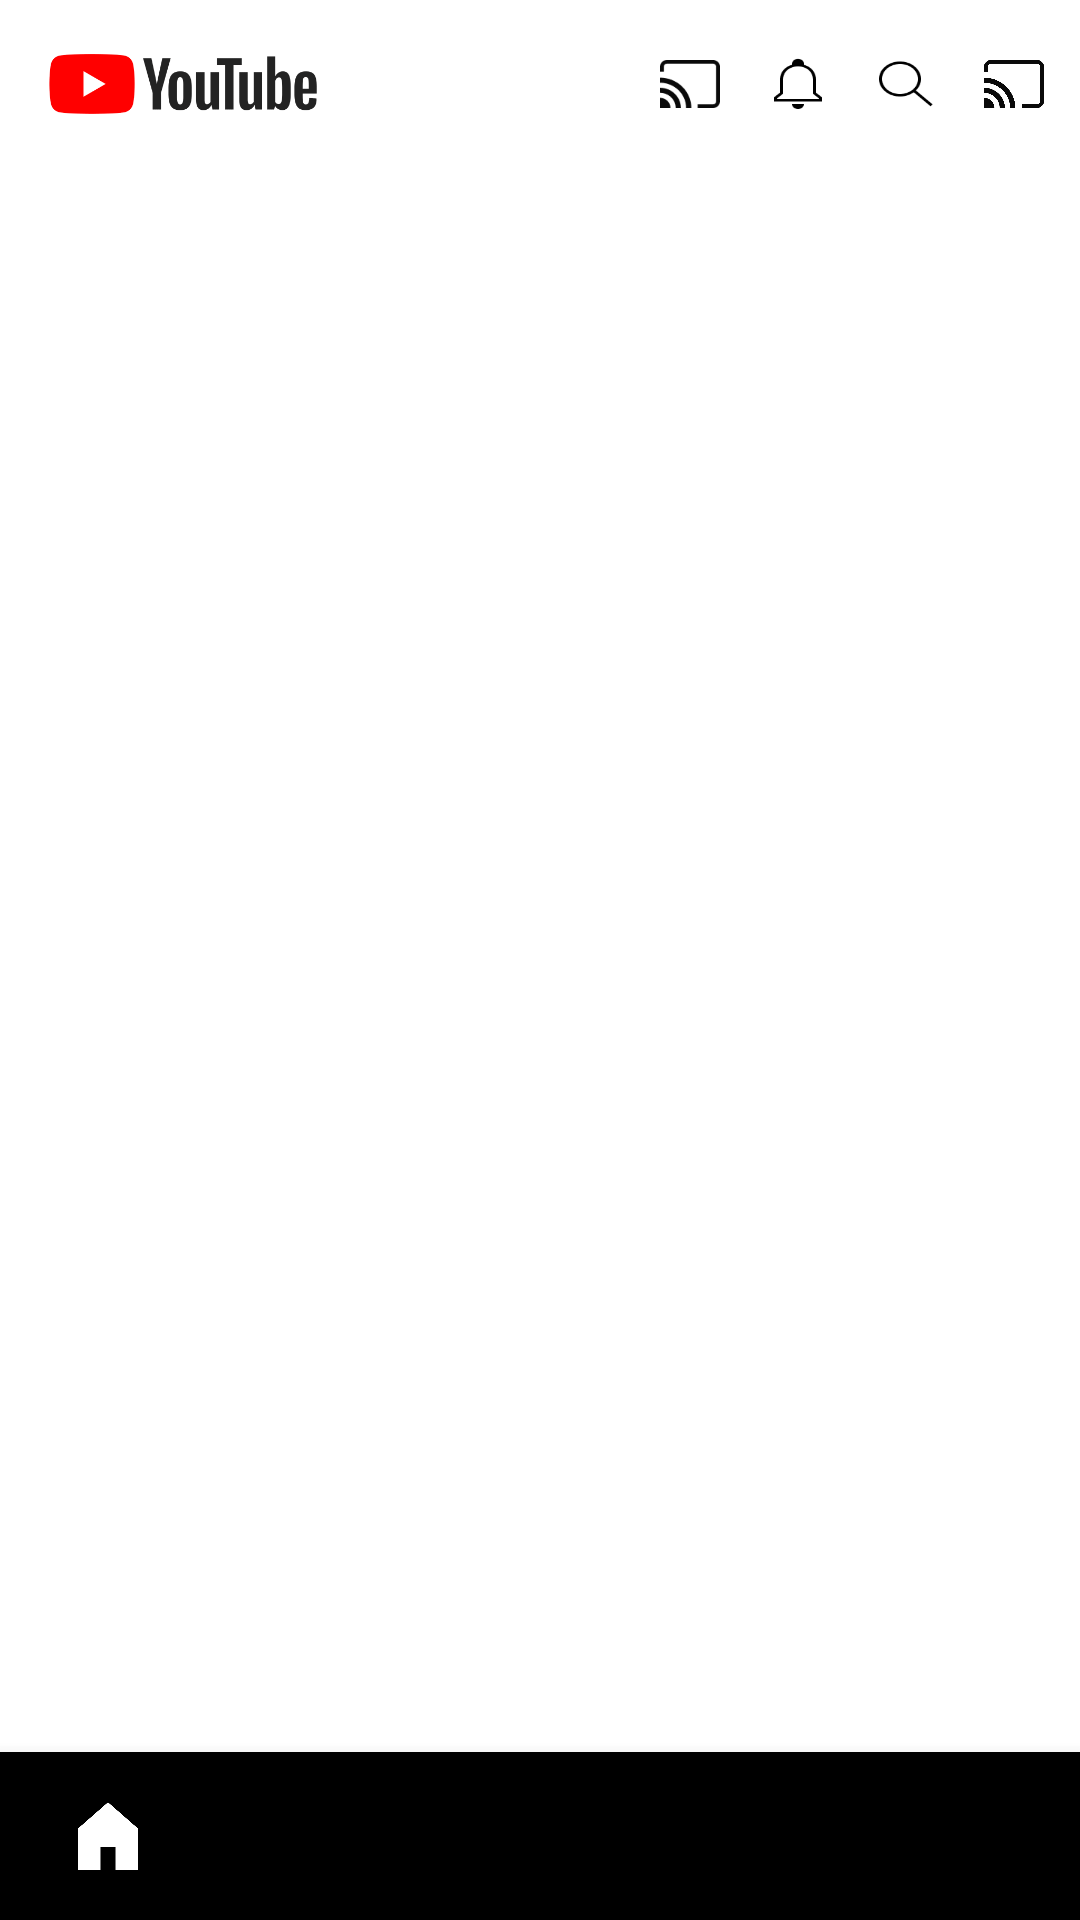

Named icons in this screenshot (1080*1920) and their centers, (x,y):
notification: (798,84)
search: (906,84)
